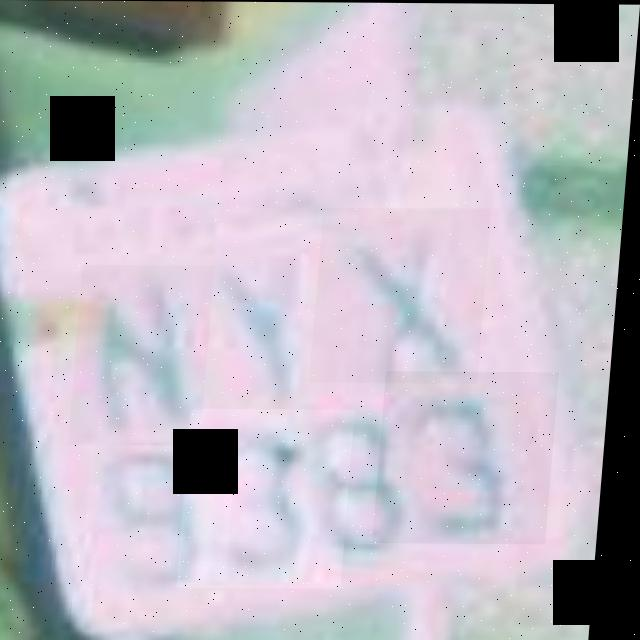3: (186, 409, 362, 590), (381, 370, 565, 543)
8: (89, 428, 245, 609)
N: (76, 265, 219, 445)
X: (316, 207, 495, 383)
